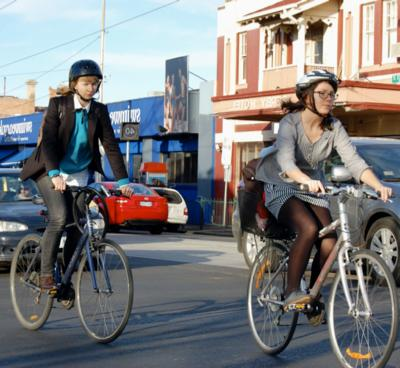With Helmet: (291, 68, 343, 118), (63, 52, 109, 105)
